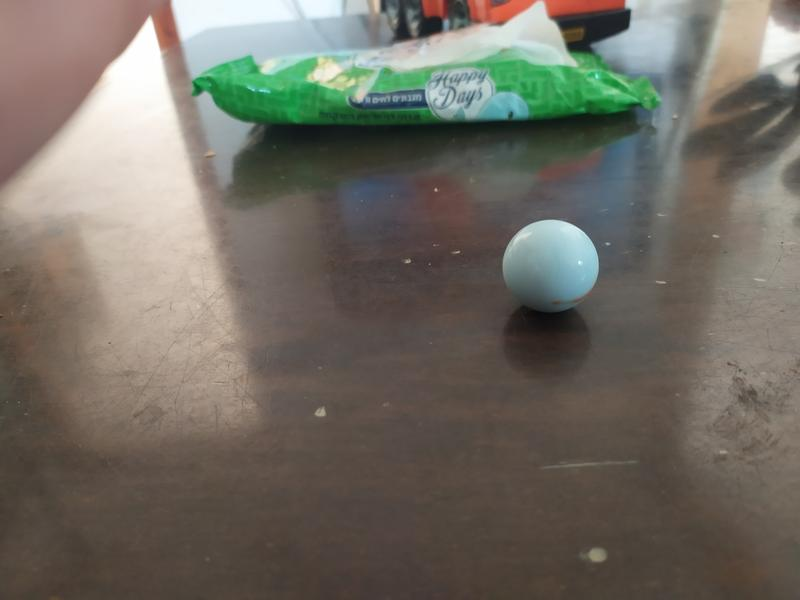Warning: (499, 216, 602, 317)
